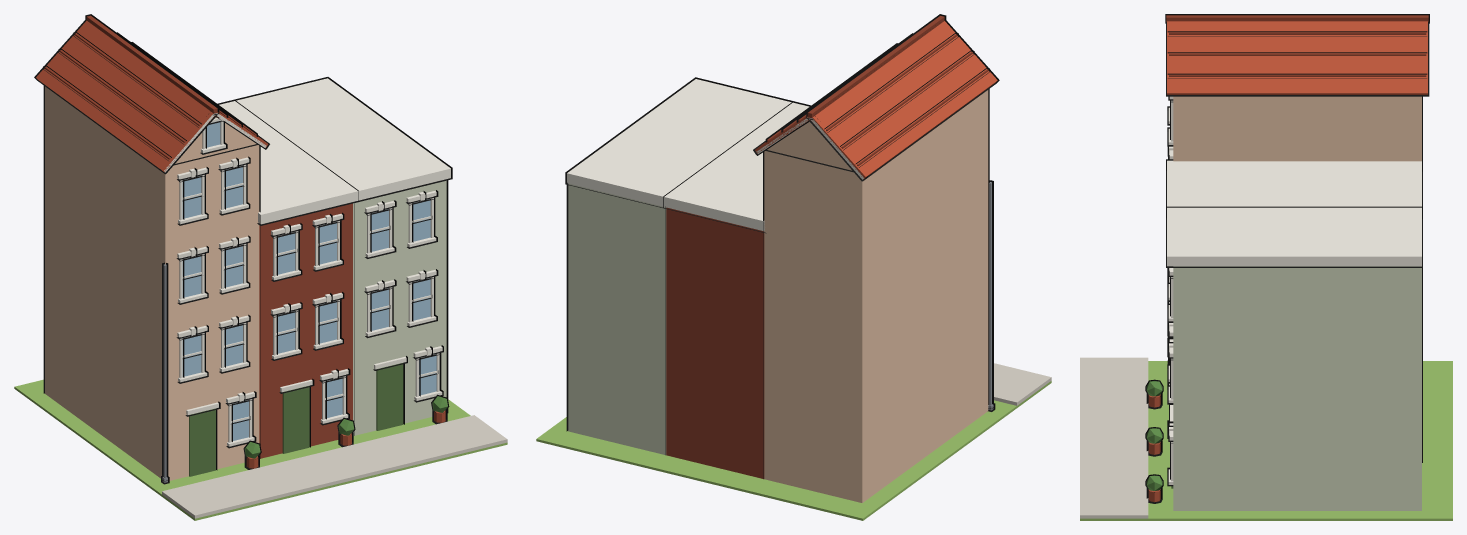
File: Konut_sira_evler_3.fbx
3 renders of one model, left to right at view 1: azimuth 30°, elevation 25°; view 2: azimuth 150°, elevation 25°; view 3: azimuth 270°, elevation 25°, orthographic. The views are drawn at different scales.
Parts seen in each view (by area): view 1: Konut_sira_evler_3; view 2: Konut_sira_evler_3; view 3: Konut_sira_evler_3.
Part boxes in pixels (x1,y1,x2,y2): Konut_sira_evler_3: (14,14,507,520); Konut_sira_evler_3: (536,14,1051,520); Konut_sira_evler_3: (1080,14,1452,520).
Bounding box in the file's own units: 12 × 13.47 × 12.
